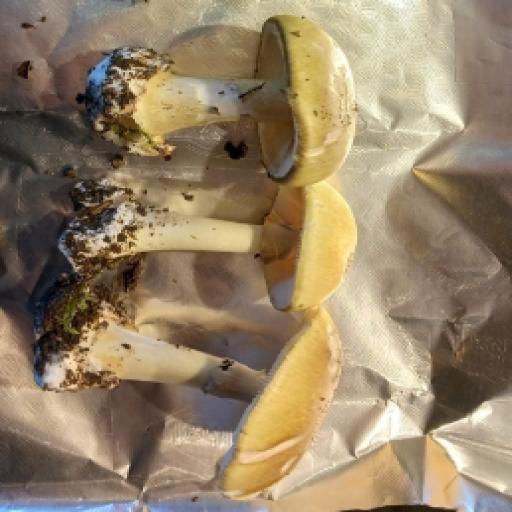mushroom: (25, 281, 350, 507), (71, 0, 366, 197), (63, 139, 360, 324)
